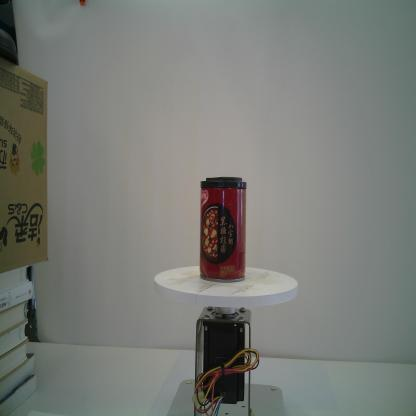Canned Food: (197, 175, 248, 284)
